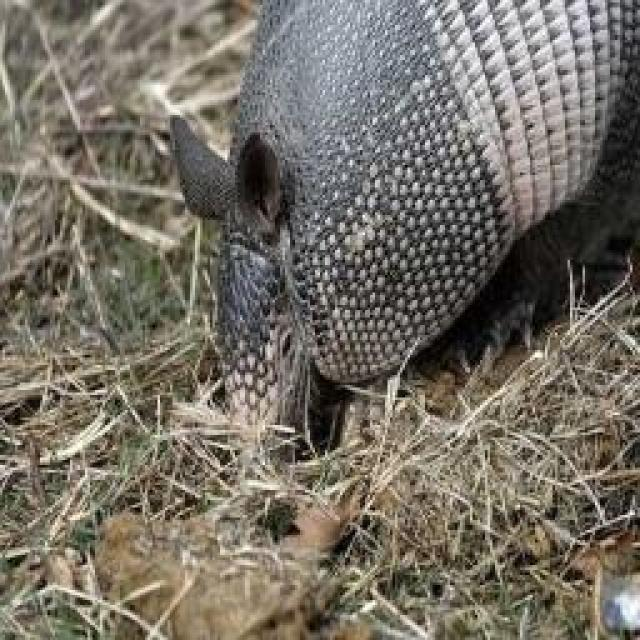not_pig: (165, 0, 637, 460)
